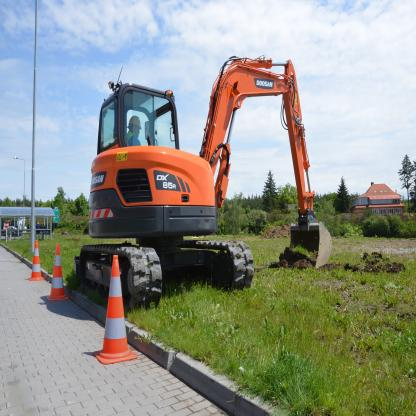excavator: (81, 35, 362, 364)
